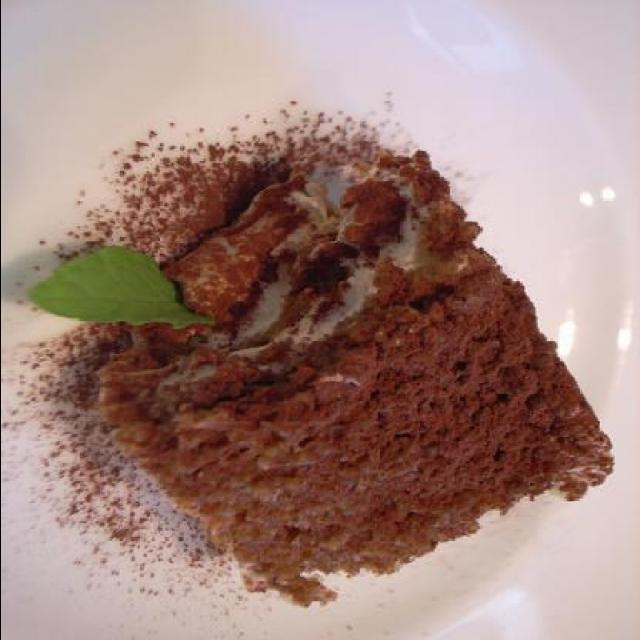Tiramisu: (113, 150, 624, 588)
